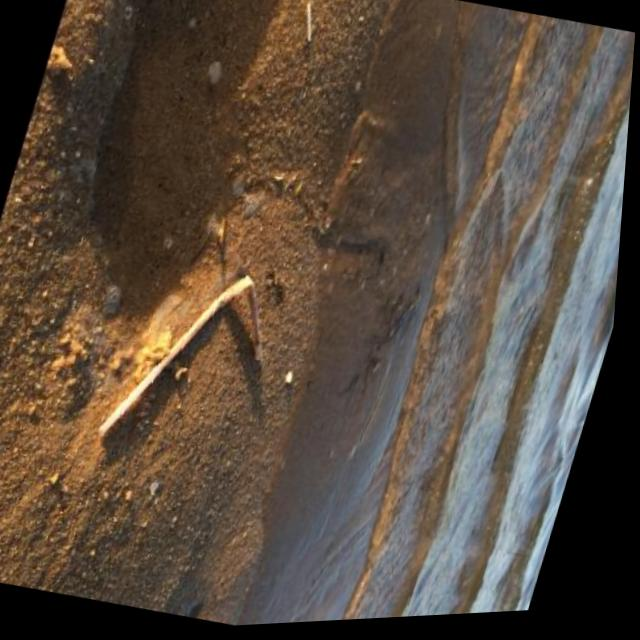plastic: (90, 248, 287, 469)
